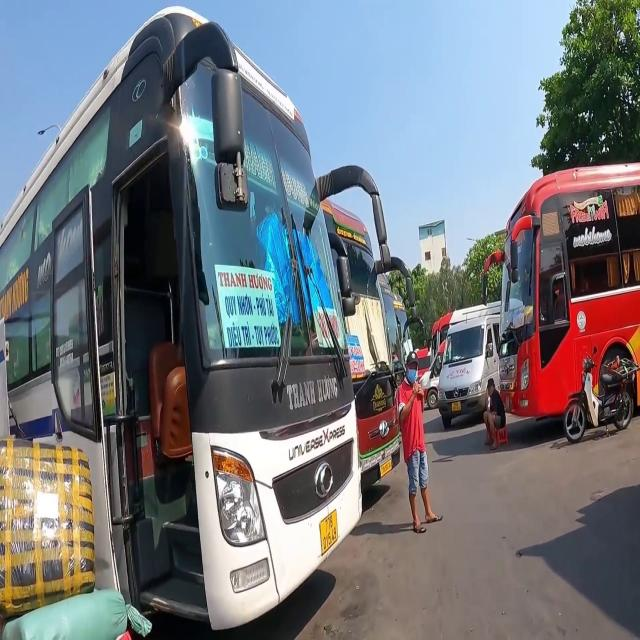bien_vang: (319, 512, 343, 548), (380, 460, 392, 477), (451, 402, 461, 411)
